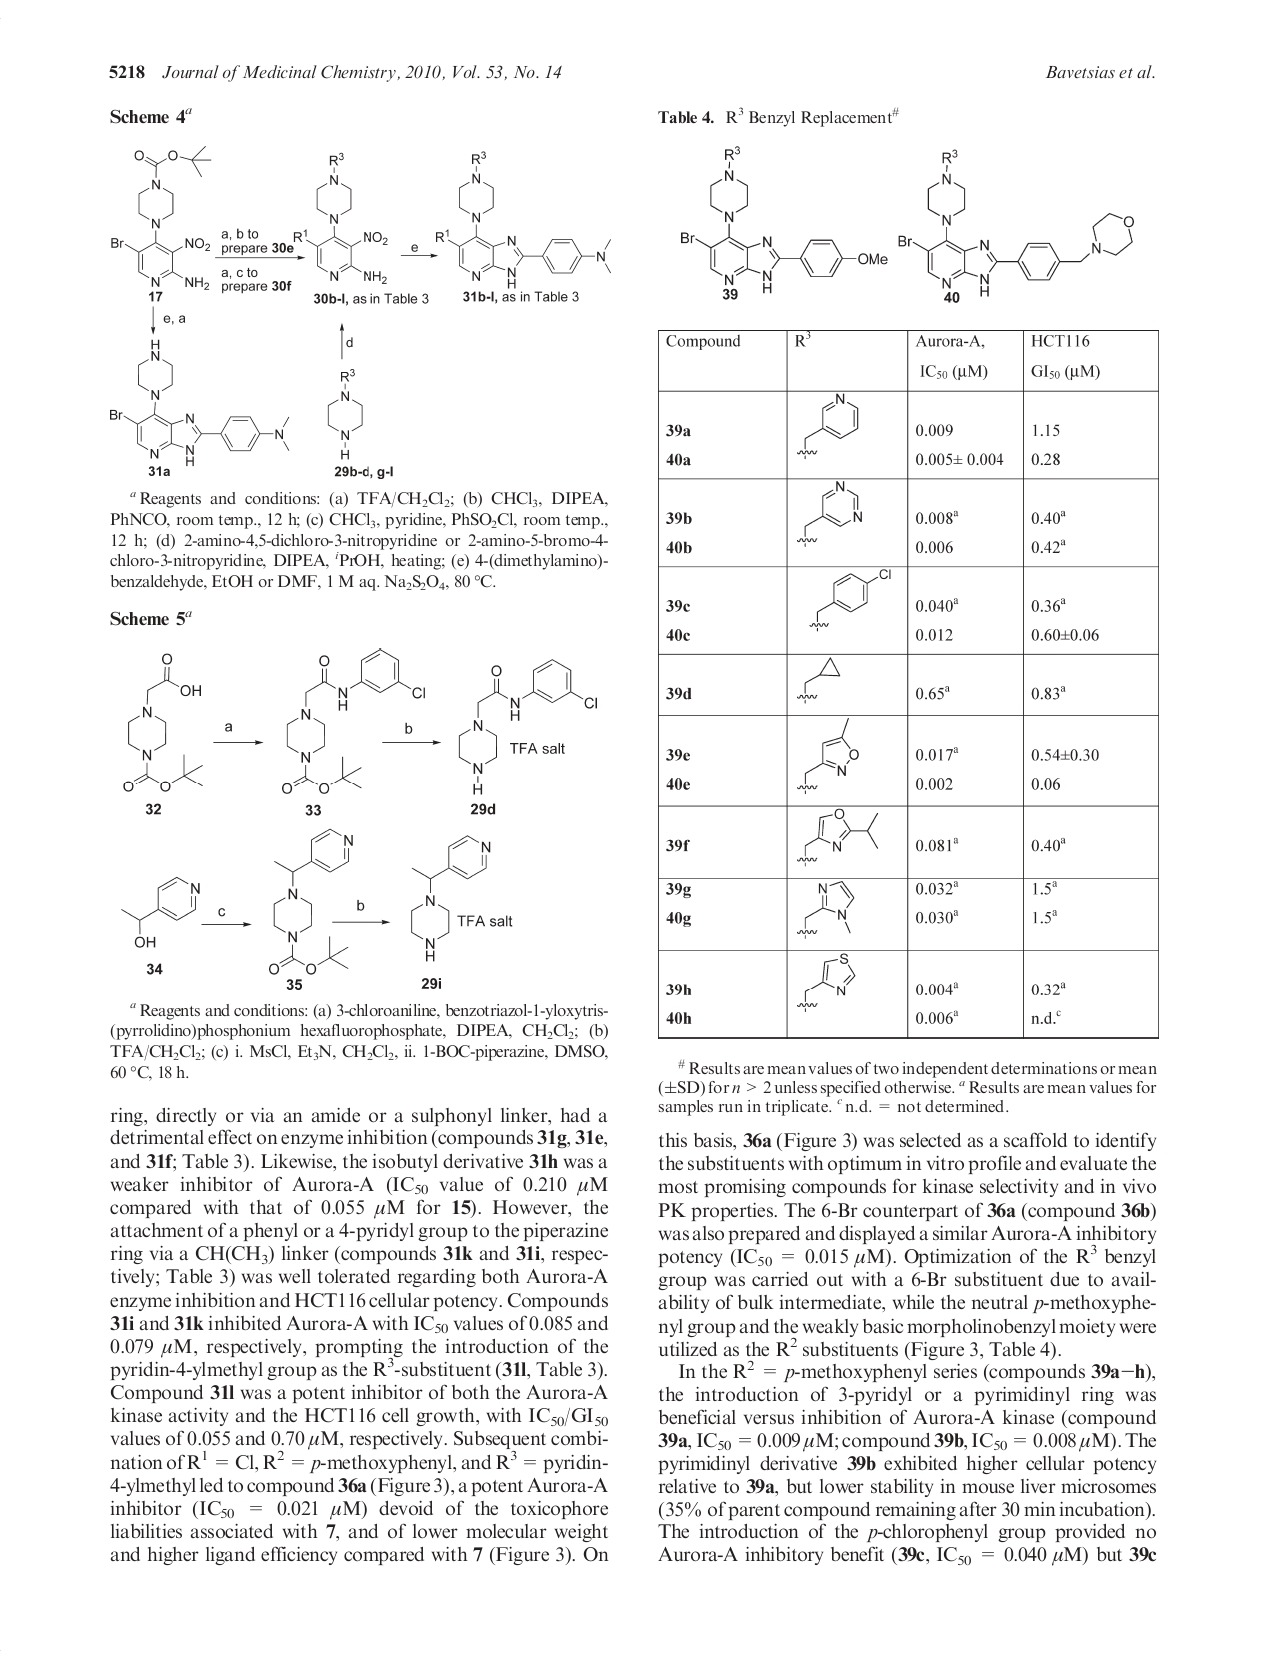exist_molecular: (895, 148, 1133, 299), (677, 144, 891, 293), (434, 145, 613, 293), (108, 338, 289, 464), (279, 644, 430, 794), (457, 660, 600, 797), (110, 141, 211, 291), (266, 827, 359, 977), (293, 153, 387, 286), (120, 654, 207, 797), (407, 833, 493, 963), (118, 874, 203, 950), (807, 567, 894, 632), (795, 714, 860, 794), (795, 809, 880, 868), (794, 392, 860, 461), (794, 481, 863, 547), (324, 367, 366, 459), (797, 952, 858, 1013), (795, 880, 854, 944), (797, 657, 840, 706)
